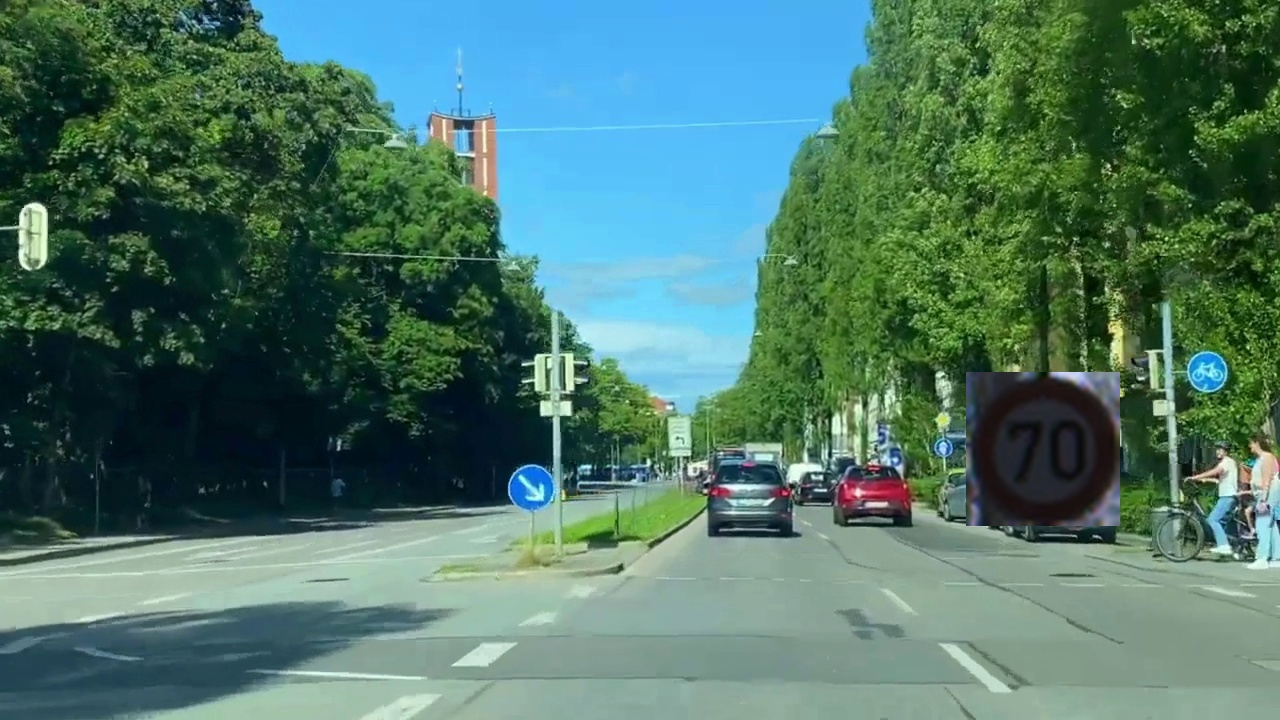Speed 70: (966, 372, 1120, 526)
